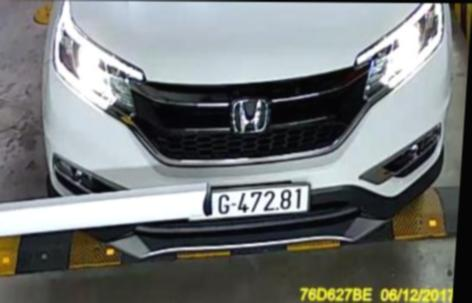License_Plate: (210, 186, 321, 221)
